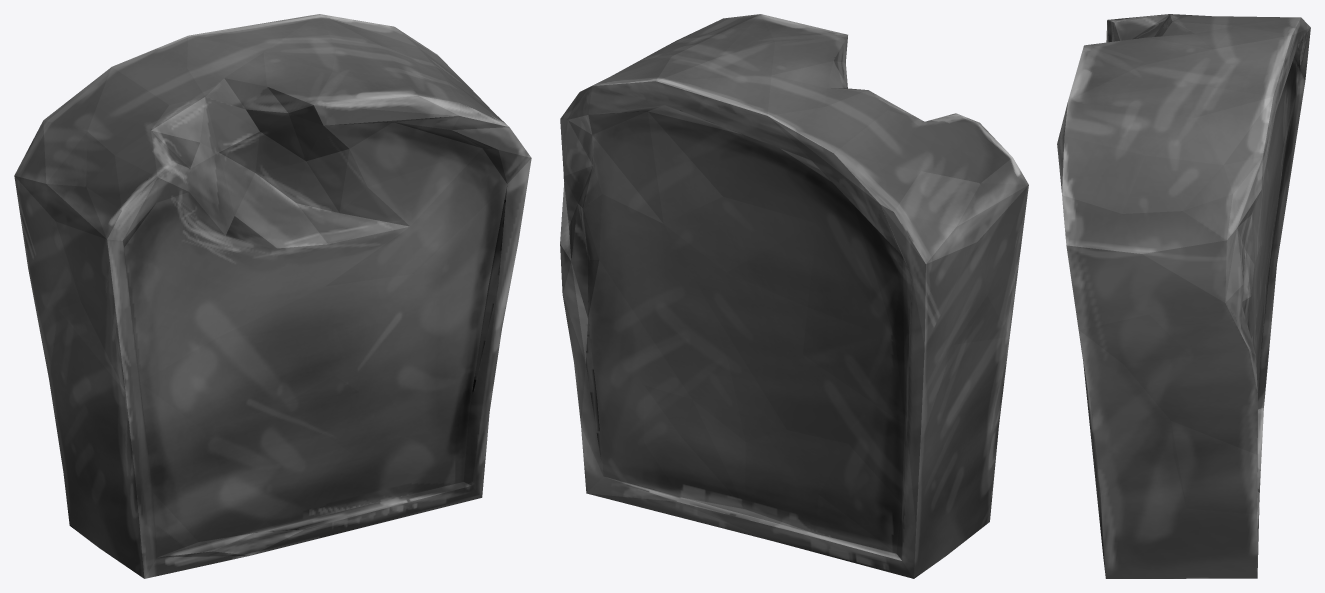
The model's file is gravestone03_b.fbx.
3 renders of one model, left to right at view 1: azimuth 30°, elevation 25°; view 2: azimuth 150°, elevation 25°; view 3: azimuth 270°, elevation 25°, orthographic.
Visible parts, largest first — view 1: Gravestone03_lp_B; view 2: Gravestone03_lp_B; view 3: Gravestone03_lp_B.
Part boxes in pixels (x1=…): Gravestone03_lp_B: x1=14, y1=14, x2=531, y2=578; Gravestone03_lp_B: x1=560, y1=14, x2=1028, y2=578; Gravestone03_lp_B: x1=1057, y1=14, x2=1310, y2=578.
Bounding box in the file's own units: 1.02 × 0.5395 × 1.06.
